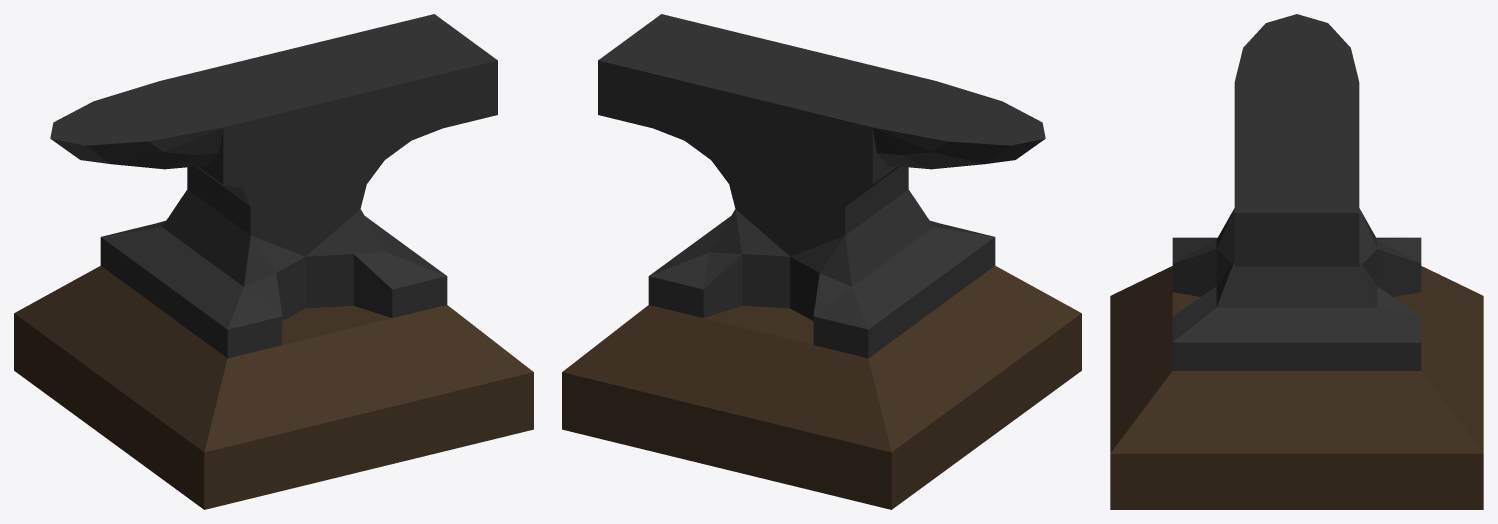
The model's file is anvil.fbx.
3 renders of one model, left to right at view 1: azimuth 30°, elevation 25°; view 2: azimuth 150°, elevation 25°; view 3: azimuth 270°, elevation 25°, orthographic.
Parts seen in each view (by area): view 1: anvil_0.001, anvil; view 2: anvil_0.001, anvil; view 3: anvil, anvil_0.001.
Boxes of the visible parts, x1,y1,x2,y2 form: anvil_0.001: (50, 14, 497, 358); anvil: (14, 265, 533, 509); anvil_0.001: (598, 14, 1045, 358); anvil: (562, 265, 1081, 509); anvil: (1110, 266, 1483, 509); anvil_0.001: (1172, 14, 1421, 370).
Bounding box in the file's own units: 103 × 74.8 × 81.6.
